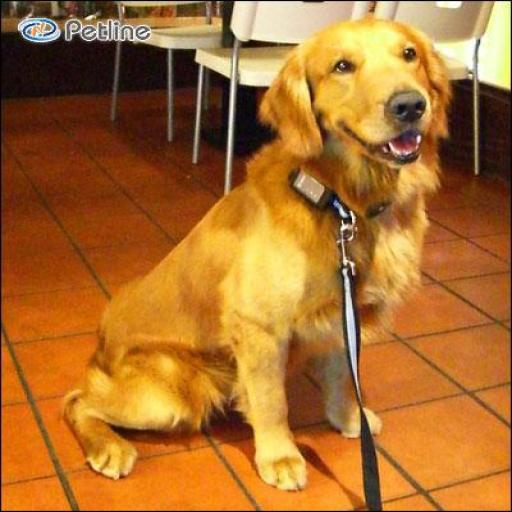dog_face: (271, 26, 460, 175)
